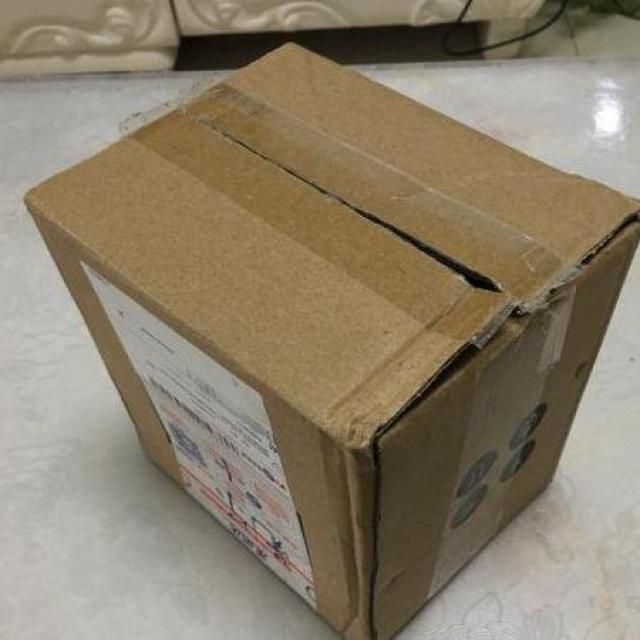cardboard: (28, 44, 640, 640)
